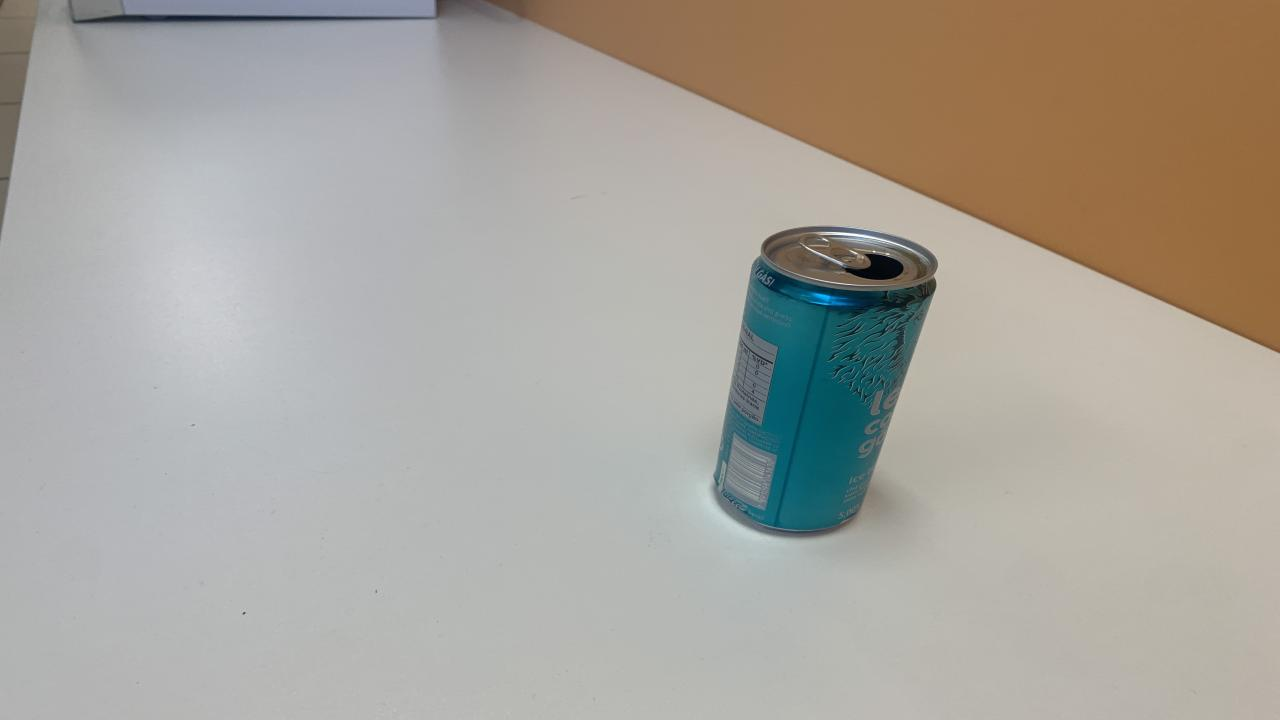Tea-Drinks: (722, 227, 938, 529)
